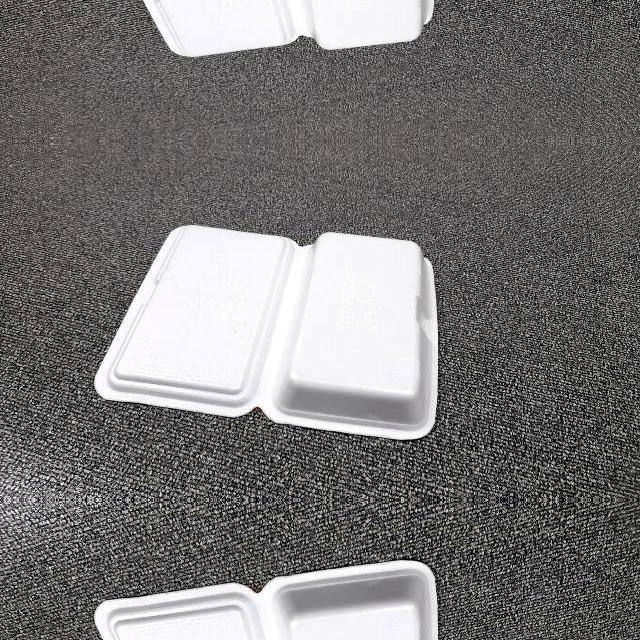Styrofoam: (95, 224, 438, 439), (96, 224, 438, 438), (95, 559, 438, 640), (95, 560, 438, 640), (95, 0, 438, 56), (143, 0, 435, 56)
